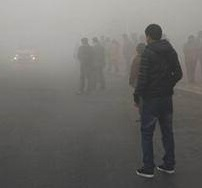person: (130, 22, 183, 178), (89, 35, 108, 93), (75, 35, 92, 94), (181, 33, 200, 85), (130, 43, 143, 107), (109, 38, 122, 74), (122, 32, 132, 71)
